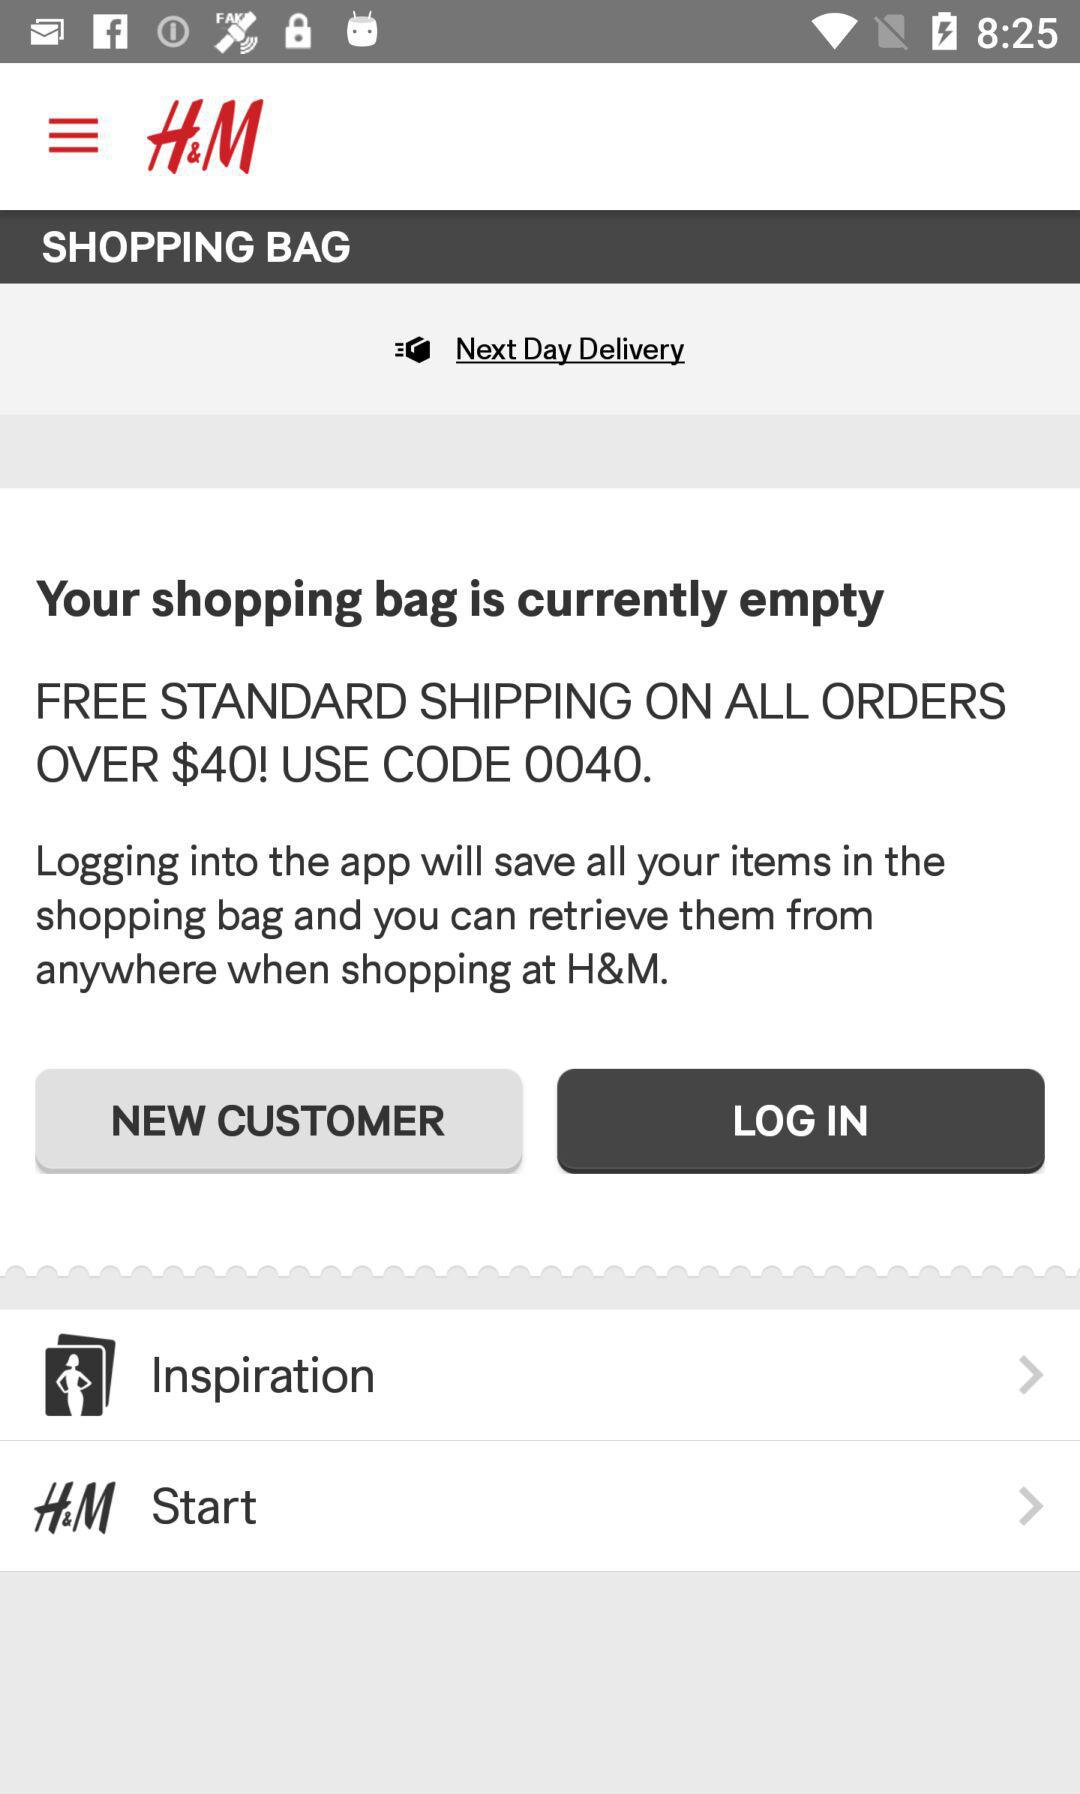Icon: (47, 117, 101, 155), (1017, 1485, 1045, 1527), (1019, 1354, 1045, 1395), (395, 336, 432, 364)
Image: (147, 97, 265, 176), (45, 1331, 118, 1417), (33, 1480, 118, 1535)
Text: (36, 843, 945, 994), (37, 680, 1006, 787), (35, 579, 885, 629), (154, 1354, 375, 1404), (44, 231, 352, 265), (152, 1486, 258, 1526)
TextButton: (35, 1069, 524, 1175), (559, 1069, 1045, 1175), (456, 337, 685, 366)
Toolbar: (1, 65, 1080, 211)
UpperTaskBar: (1, 1, 1080, 64)
